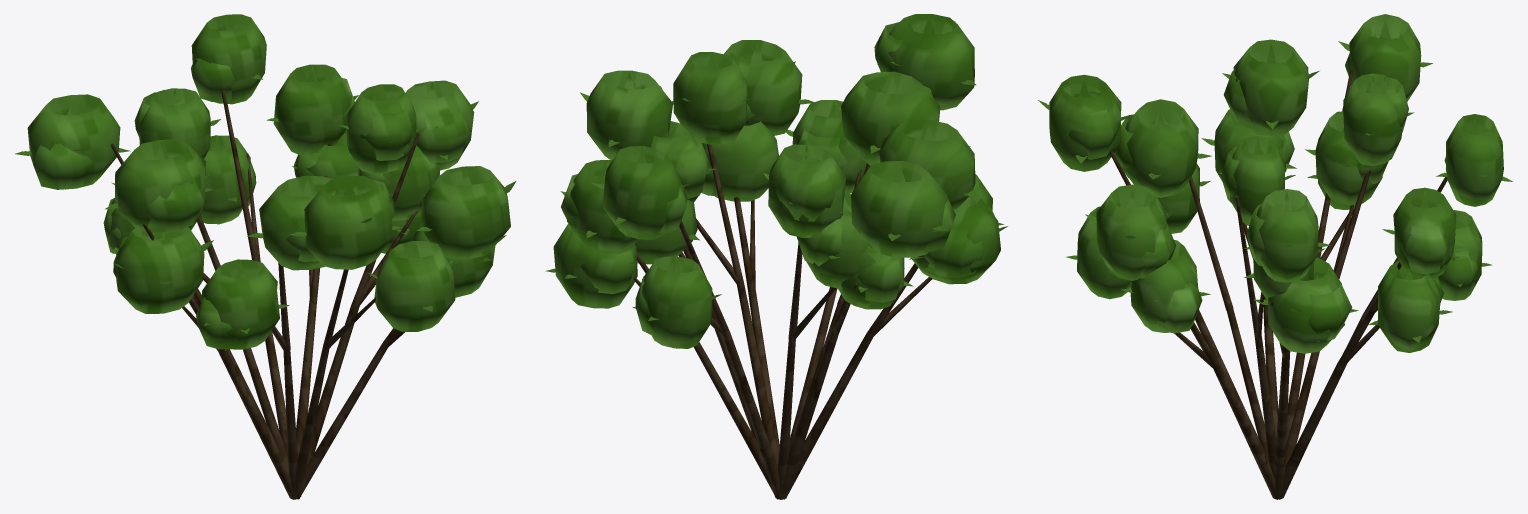
The model's file is filbert_big03-lod0.glb.
3 views of the same model, side by side, from view 1: azimuth 30°, elevation 25°; view 2: azimuth 150°, elevation 25°; view 3: azimuth 270°, elevation 25° (orthographic). The views are drawn at different scales.
Parts seen in each view (by area): view 1: TZ_filbert_shrub_Batch_00_LOD0, TZ_filbert_shrub_Batch_02_LOD0, TZ_filbert_shrub_Batch_01_LOD0; view 2: TZ_filbert_shrub_Batch_00_LOD0, TZ_filbert_shrub_Batch_02_LOD0, TZ_filbert_shrub_Batch_01_LOD0; view 3: TZ_filbert_shrub_Batch_00_LOD0, TZ_filbert_shrub_Batch_02_LOD0, TZ_filbert_shrub_Batch_01_LOD0.
Part boxes in pixels (<box>): TZ_filbert_shrub_Batch_00_LOD0: <box>27,14,510,350</box>; TZ_filbert_shrub_Batch_02_LOD0: <box>110,90,420,499</box>; TZ_filbert_shrub_Batch_01_LOD0: <box>15,58,516,333</box>; TZ_filbert_shrub_Batch_00_LOD0: <box>553,14,1000,348</box>; TZ_filbert_shrub_Batch_02_LOD0: <box>633,144,932,499</box>; TZ_filbert_shrub_Batch_01_LOD0: <box>545,21,1007,320</box>; TZ_filbert_shrub_Batch_00_LOD0: <box>1049,14,1503,353</box>; TZ_filbert_shrub_Batch_02_LOD0: <box>1109,69,1447,499</box>; TZ_filbert_shrub_Batch_01_LOD0: <box>1038,41,1512,342</box>.
Size of the model in its own units: 2.61 by 2.45 by 2.66.
3 materials, 3 textured.
